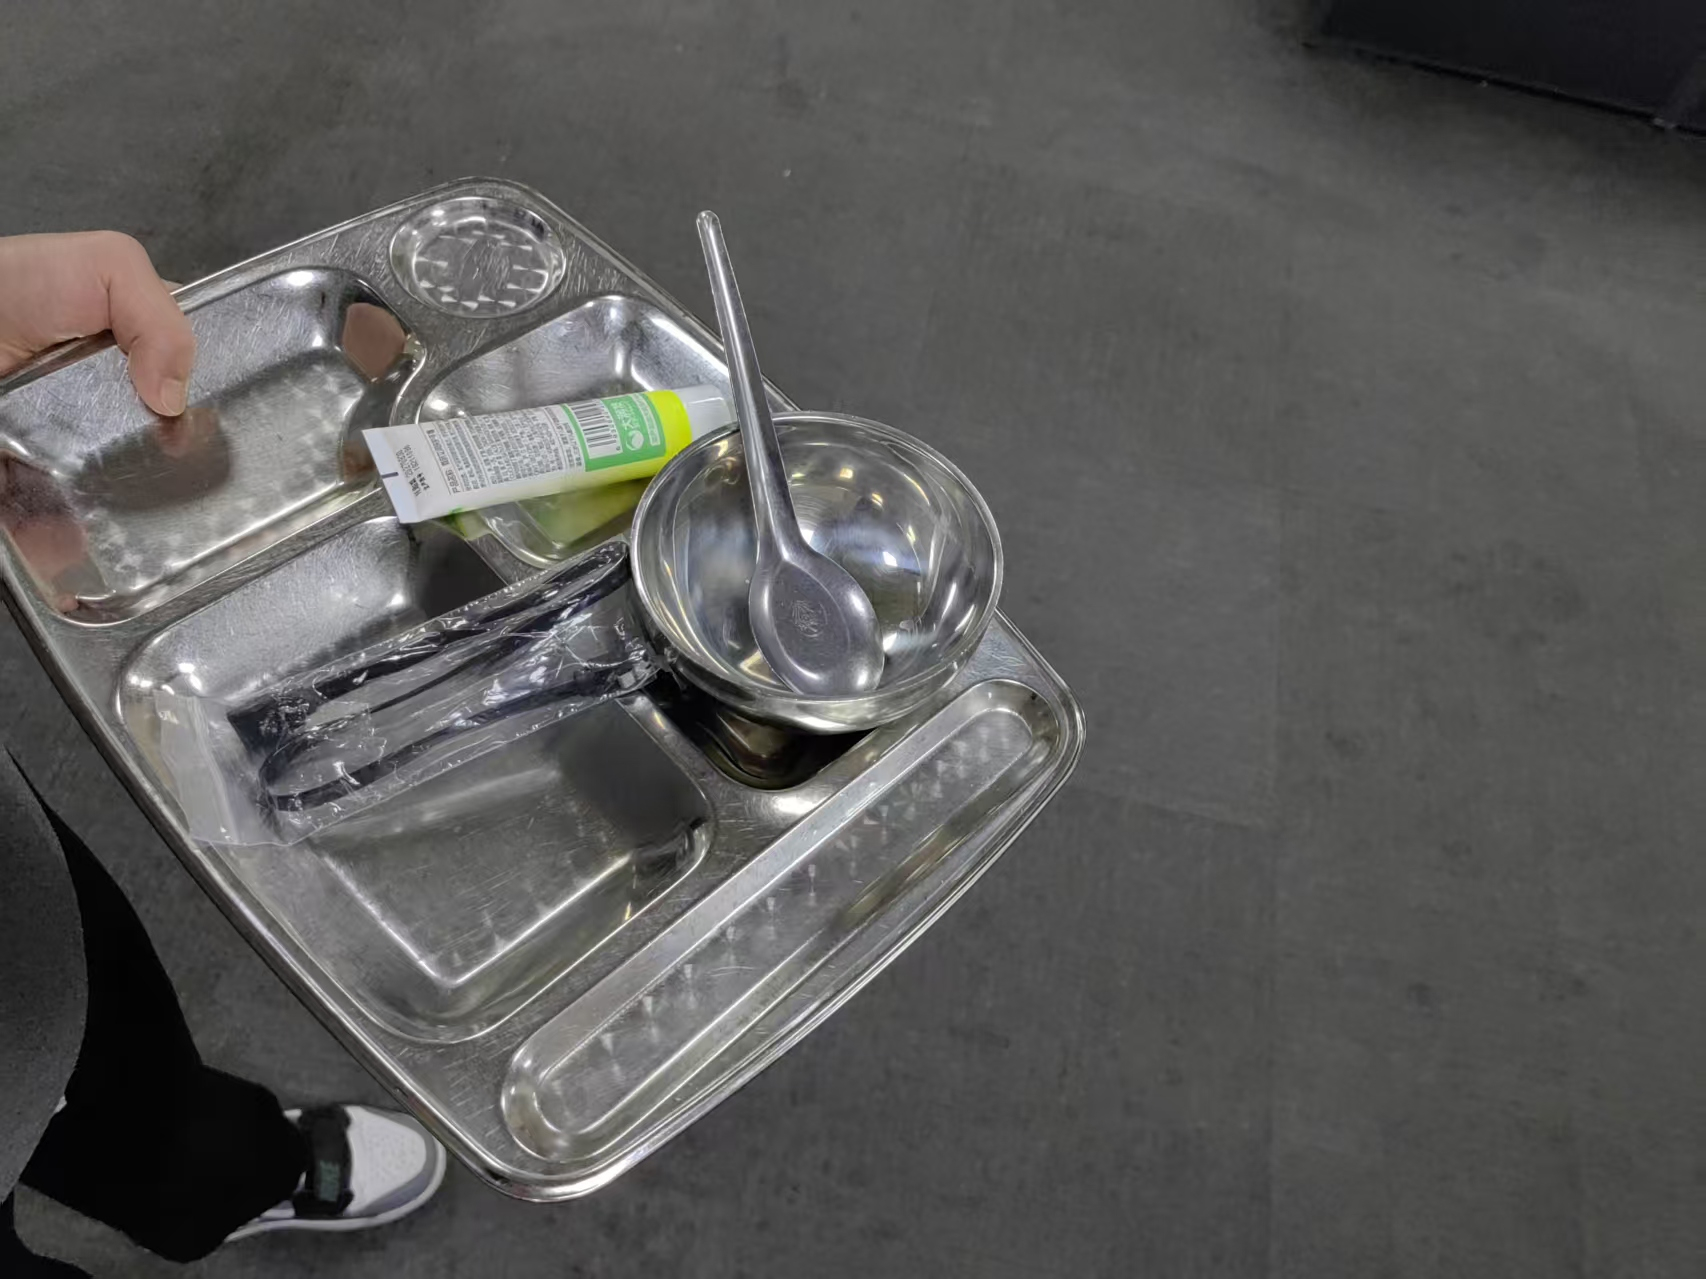mild: (175, 382, 736, 835)
plate: (3, 171, 1091, 1210)
